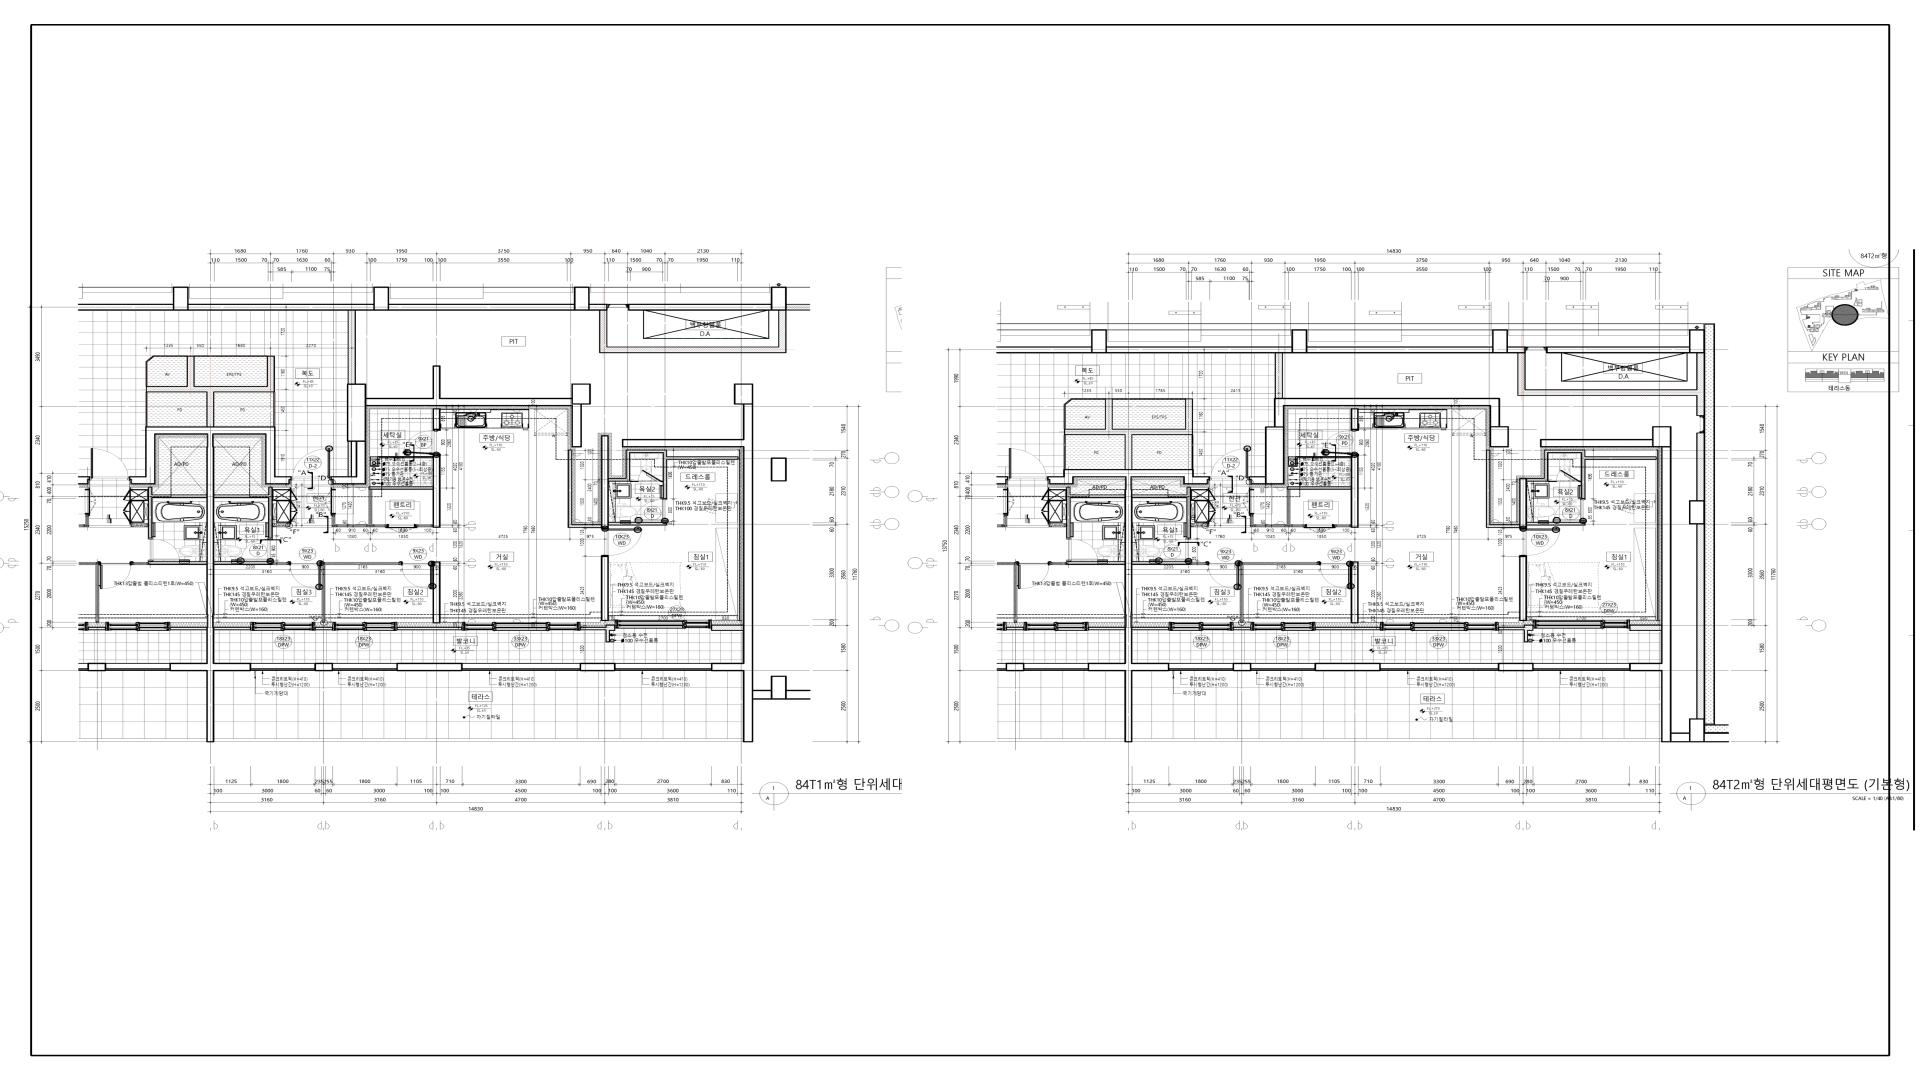door: (292, 448, 330, 480), (1210, 448, 1248, 480), (1323, 429, 1361, 461), (601, 528, 643, 556), (1519, 528, 1561, 556), (403, 430, 441, 455), (401, 561, 433, 590), (289, 561, 322, 589), (1319, 561, 1350, 589), (1208, 561, 1239, 589), (241, 538, 273, 561), (635, 499, 667, 522), (1554, 499, 1586, 522), (1159, 539, 1192, 561), (1556, 470, 1581, 482), (1243, 488, 1254, 515), (387, 524, 416, 533), (1305, 524, 1334, 533)
wall: (622, 384, 811, 742), (1540, 426, 1729, 742), (129, 426, 292, 743), (1047, 469, 1210, 742), (330, 365, 591, 485), (1249, 398, 1509, 484), (568, 435, 739, 528), (997, 329, 1526, 353), (1518, 353, 1705, 416), (146, 355, 275, 426), (1064, 398, 1193, 469), (332, 455, 441, 528), (1527, 450, 1657, 499), (322, 562, 401, 623), (1240, 562, 1319, 623), (1546, 329, 1706, 353), (214, 487, 273, 538), (1132, 487, 1191, 538), (1486, 450, 1519, 528), (1250, 490, 1305, 527), (1696, 525, 1705, 718), (1696, 433, 1706, 500), (1499, 625, 1534, 643), (581, 625, 615, 643), (348, 310, 356, 384), (1351, 455, 1359, 528), (397, 663, 463, 671), (1315, 663, 1381, 671), (601, 556, 609, 621), (1519, 556, 1527, 621), (1351, 561, 1359, 623), (433, 562, 441, 624), (1689, 500, 1705, 525), (1519, 478, 1527, 528), (1275, 353, 1283, 398), (580, 663, 615, 672), (214, 561, 289, 565), (1498, 663, 1534, 671), (1287, 486, 1351, 490), (1132, 561, 1190, 565), (397, 627, 462, 630), (1316, 627, 1380, 630), (1629, 625, 1661, 631), (711, 625, 743, 631), (1527, 522, 1586, 525), (433, 408, 441, 430), (1351, 408, 1359, 430), (314, 663, 333, 671), (1006, 663, 1024, 671), (1233, 663, 1251, 671), (1132, 627, 1169, 630), (214, 627, 250, 630), (1089, 627, 1124, 630), (348, 442, 351, 476), (1233, 627, 1251, 630), (315, 627, 332, 630), (1334, 524, 1351, 527), (1190, 562, 1207, 565), (1548, 481, 1556, 482)
window: (462, 622, 581, 631), (1380, 622, 1499, 631), (1380, 663, 1498, 671), (463, 663, 580, 671), (1533, 620, 1629, 629), (616, 620, 711, 629), (616, 663, 711, 671), (1534, 663, 1629, 671), (250, 622, 315, 631), (332, 622, 397, 631), (1251, 622, 1315, 631), (1169, 622, 1233, 631), (1251, 663, 1315, 671), (1169, 663, 1233, 671), (251, 663, 314, 671), (333, 663, 396, 671)
